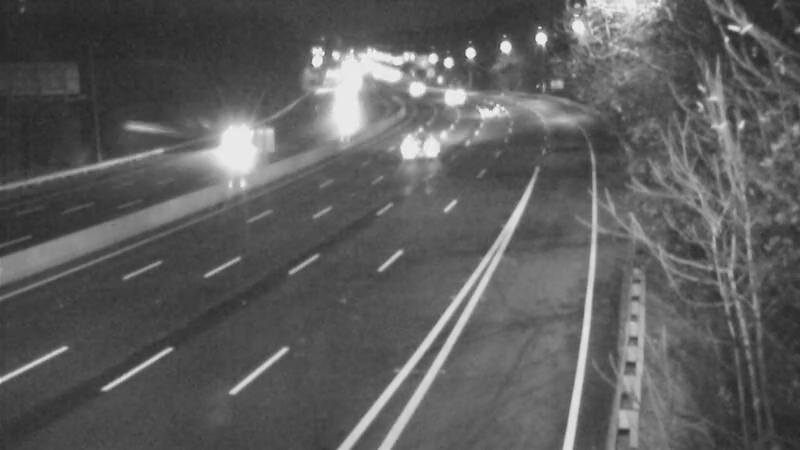vehicle: (202, 116, 282, 196), (424, 66, 474, 116), (463, 87, 513, 137), (405, 114, 455, 164)
